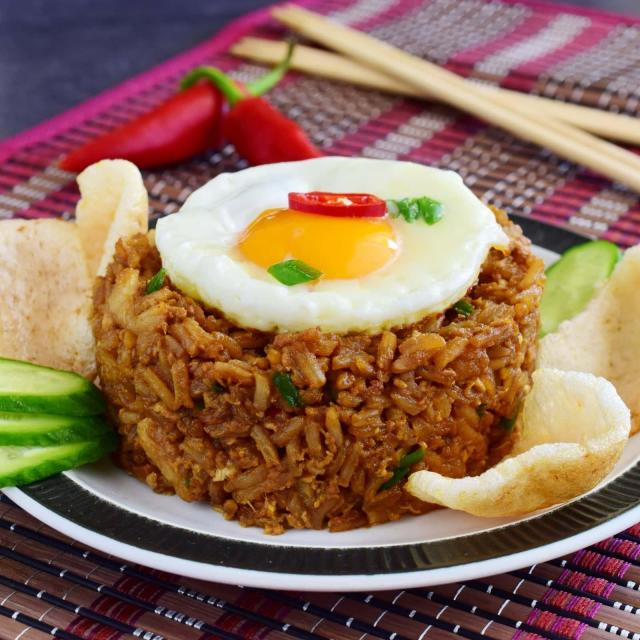Nasi Goreng: (99, 153, 546, 504)
